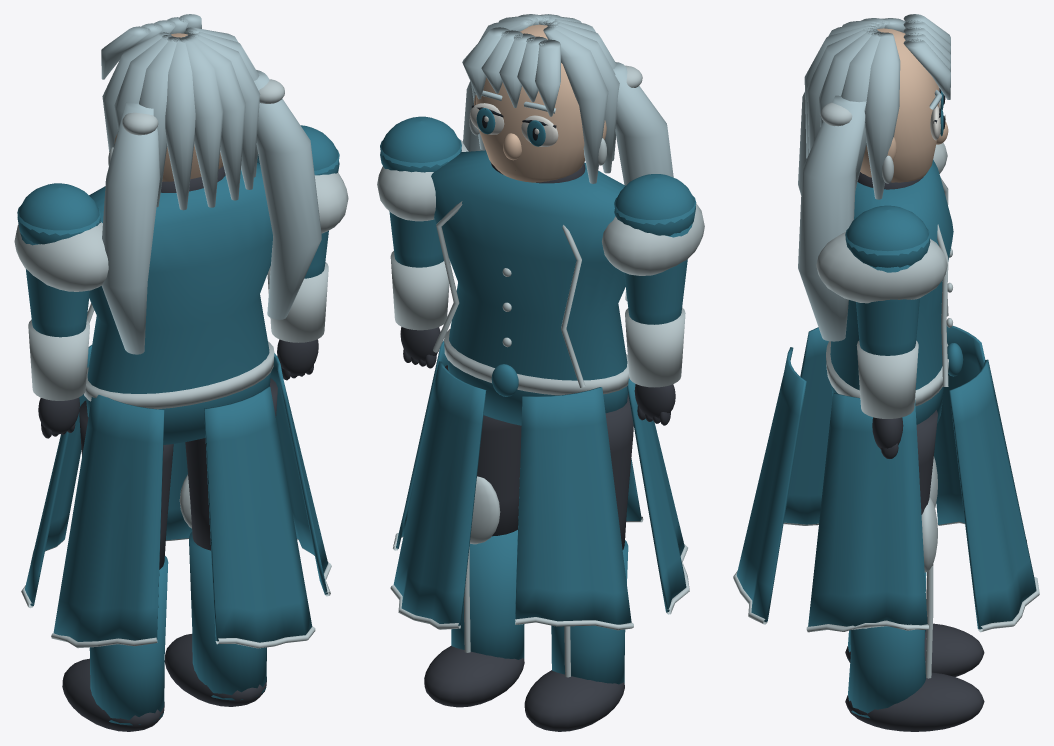
The model's file is hero-tide.glb.
The picture shows the model from 3 angles, left to right: view 1: azimuth 30°, elevation 25°; view 2: azimuth 150°, elevation 25°; view 3: azimuth 270°, elevation 25°; orthographic projection.
Parts seen in each view (by area): view 1: torso_Painted character, head_Painted character, armL_Painted character, legR_Painted character, legL_Painted character, armR_Painted character; view 2: torso_Painted character, head_Painted character, legR_Painted character, armL_Painted character, legL_Painted character, armR_Painted character; view 3: torso_Painted character, head_Painted character, legR_Painted character, armR_Painted character, legL_Painted character.
Boxes of the visible parts, x1,y1,x2,y2 form: torso_Painted character: (14,162,348,648); head_Painted character: (101,14,321,354); armL_Painted character: (17,183,100,438); legR_Painted character: (164,378,277,706); legL_Painted character: (62,400,173,731); armR_Painted character: (257,125,339,380); torso_Painted character: (377,139,704,630); head_Painted character: (462,14,673,301); legR_Painted character: (424,365,524,707); armL_Painted character: (614,174,696,425); legL_Painted character: (524,393,633,731); armR_Painted character: (380,116,461,368); torso_Painted character: (733,143,1039,632); head_Painted character: (798,14,950,341); legR_Painted character: (845,410,984,731); armR_Painted character: (845,205,930,458); legL_Painted character: (845,456,984,676).
Size of the model in its own units: 0.91 by 1.92 by 0.7913.
